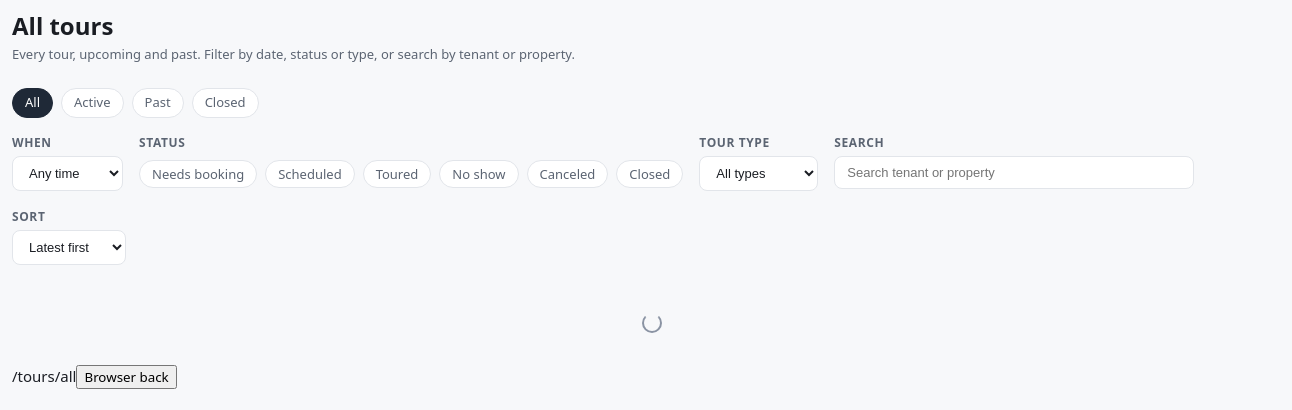
Test: AllToursView - the filter bar (spec 4.3) › Date range: From and To show only under it; no bounds sends none; the bounds are local-day ends; From after To sends nothing and says so
The image size is (1292, 410).
Check: the field labelled "From" is not shown
Select "Date range" in the dropdown labelled "When" at (68, 173), box [12, 156, 123, 191]
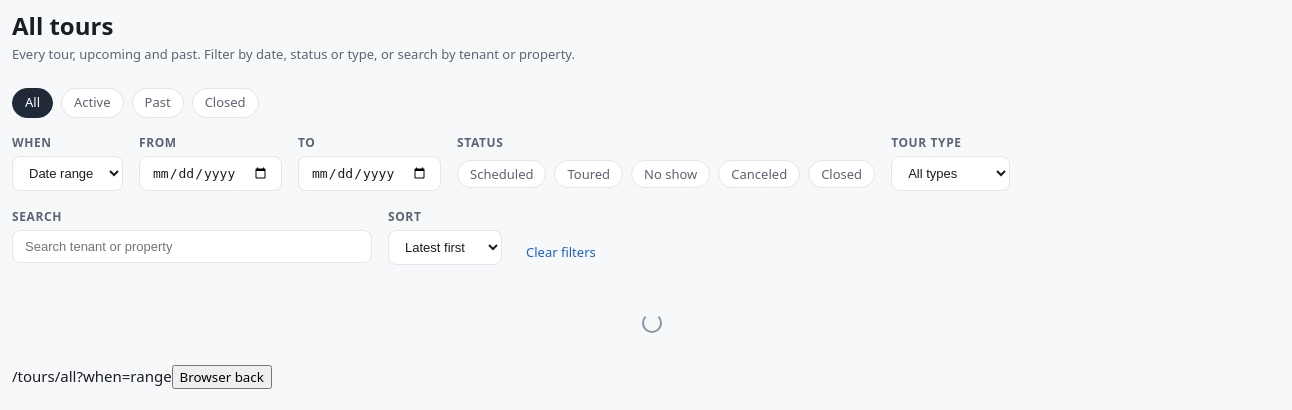
Type "2026-10-01" into the date field labelled "From" at (210, 173), box [139, 156, 282, 191]
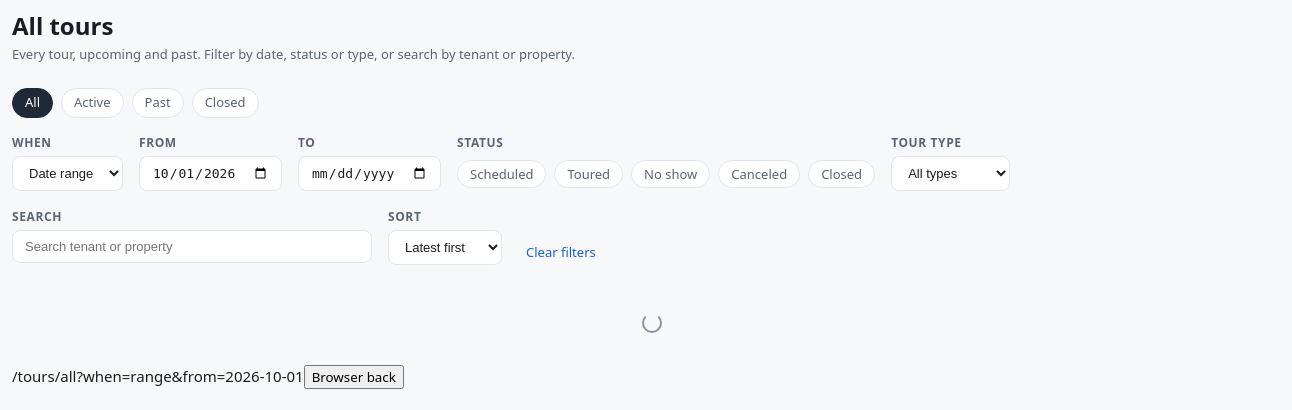
Type "2026-10-31" into the date field labelled "To" at (370, 173), box [298, 156, 441, 191]
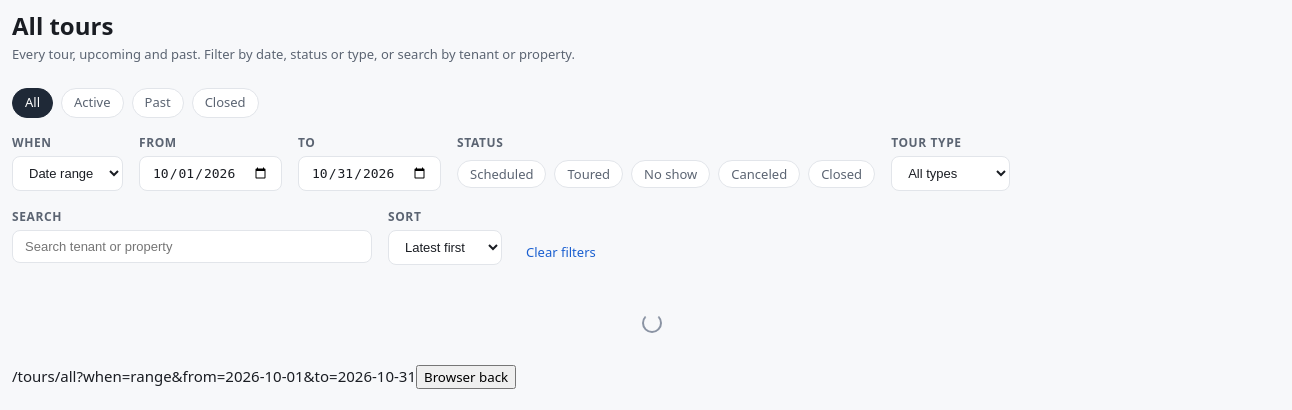
Type "2026-11-05" into the date field labelled "From" at (210, 173), box [139, 156, 282, 191]
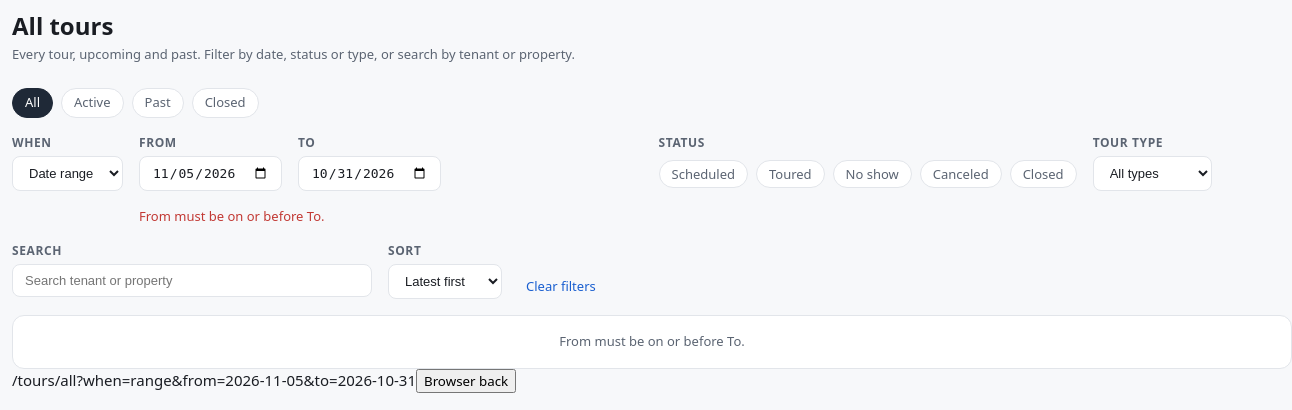
Check: the text "From must be on or before To." is shown 2 times, box [139, 207, 324, 225]; [559, 332, 745, 350]
Check: the message "Loading" is gone
Type "2026-10-05" into the date field labelled "From" at (210, 173), box [139, 156, 282, 191]
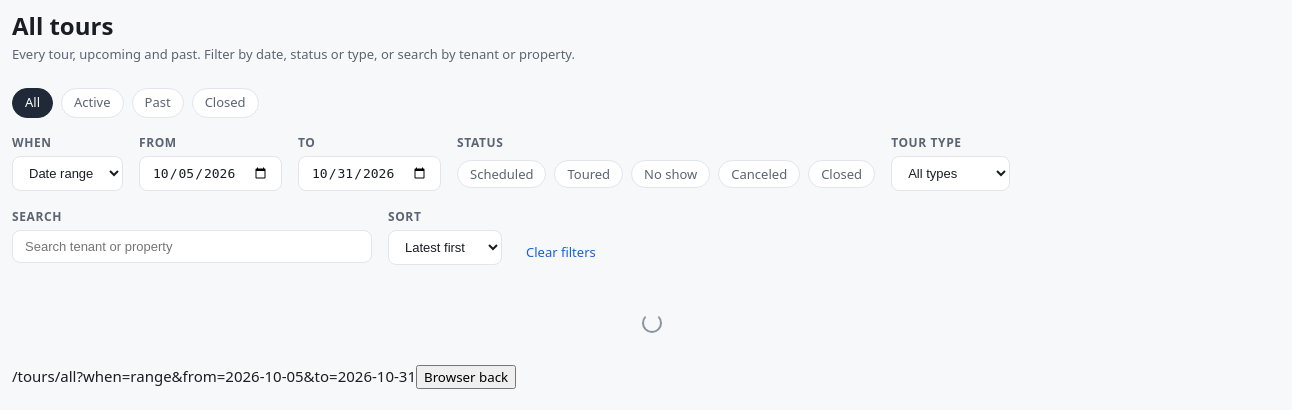
Check: the text "From must be on or before To." is gone
